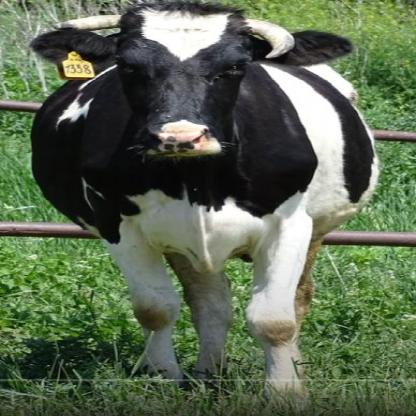cow: (32, 5, 380, 396)
